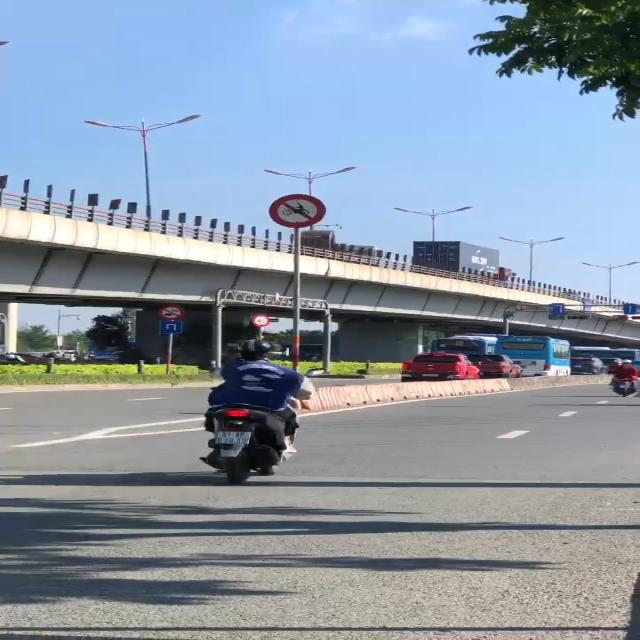Bien bao cam xe may: (262, 190, 338, 232)
